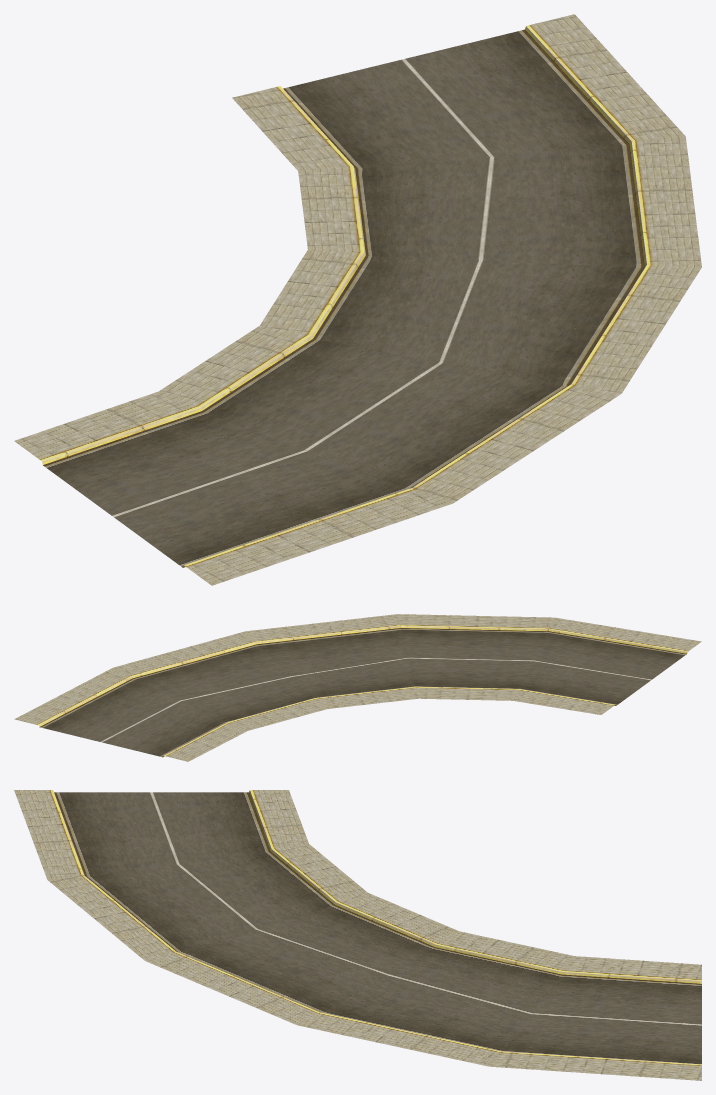
The model's file is Road3_Turn_Large_A.fbx.
3 renders of one model, top to bottom at view 1: azimuth 30°, elevation 25°; view 2: azimuth 150°, elevation 25°; view 3: azimuth 270°, elevation 25°, orthographic. The views are drawn at different scales.
Parts seen in each view (by area): view 1: Road_Turn_Large_A; view 2: Road_Turn_Large_A; view 3: Road_Turn_Large_A.
Part boxes in pixels (bbox=[...]): Road_Turn_Large_A: bbox=[14, 14, 701, 585]; Road_Turn_Large_A: bbox=[14, 614, 701, 761]; Road_Turn_Large_A: bbox=[14, 790, 701, 1080].
Bounding box in the file's own units: 5646 × 20.69 × 5643.
